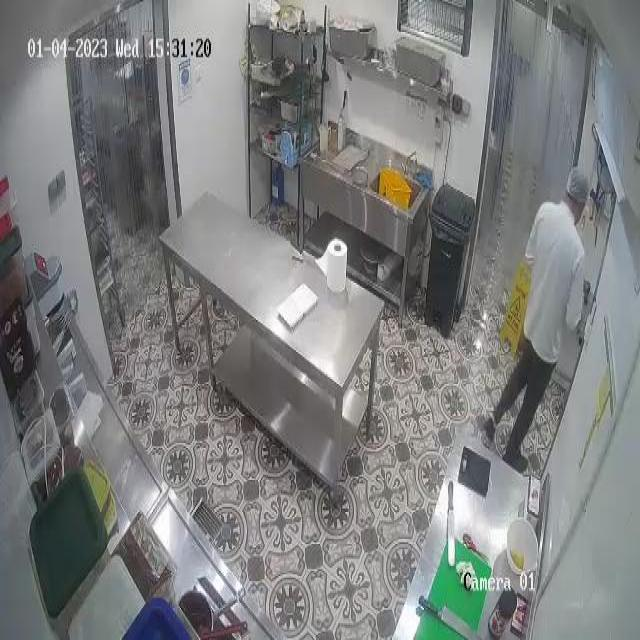hairnet: (567, 172, 589, 206)
